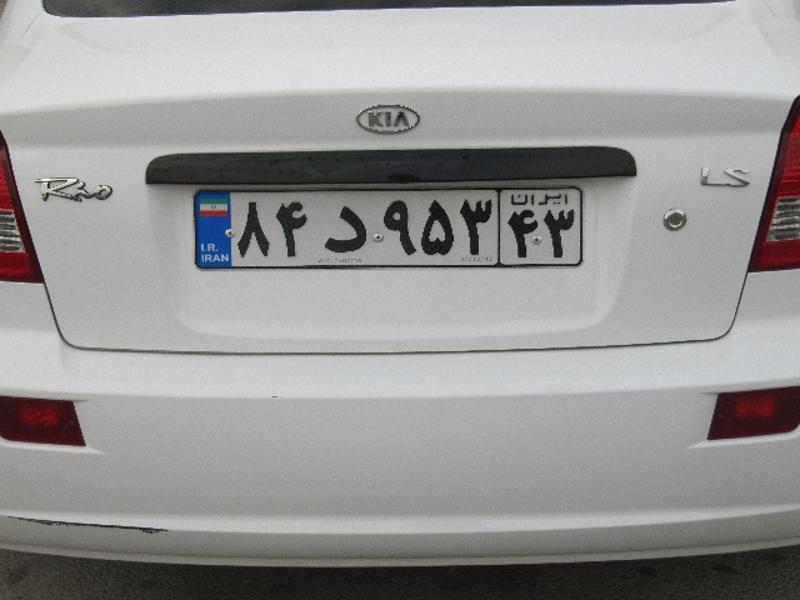Plate: (182, 160, 642, 299)
